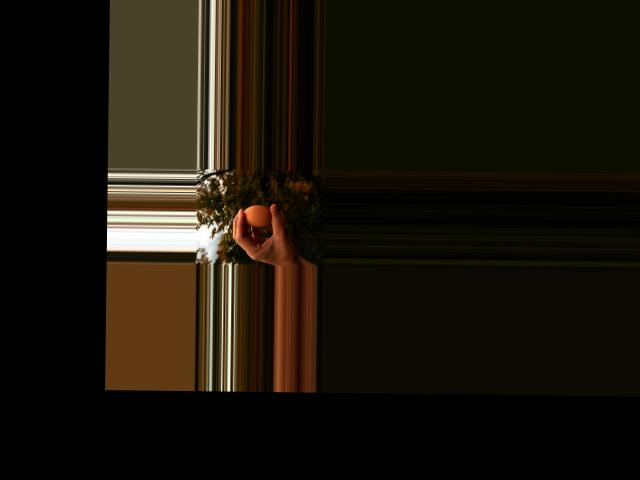egg: (242, 204, 272, 226)
